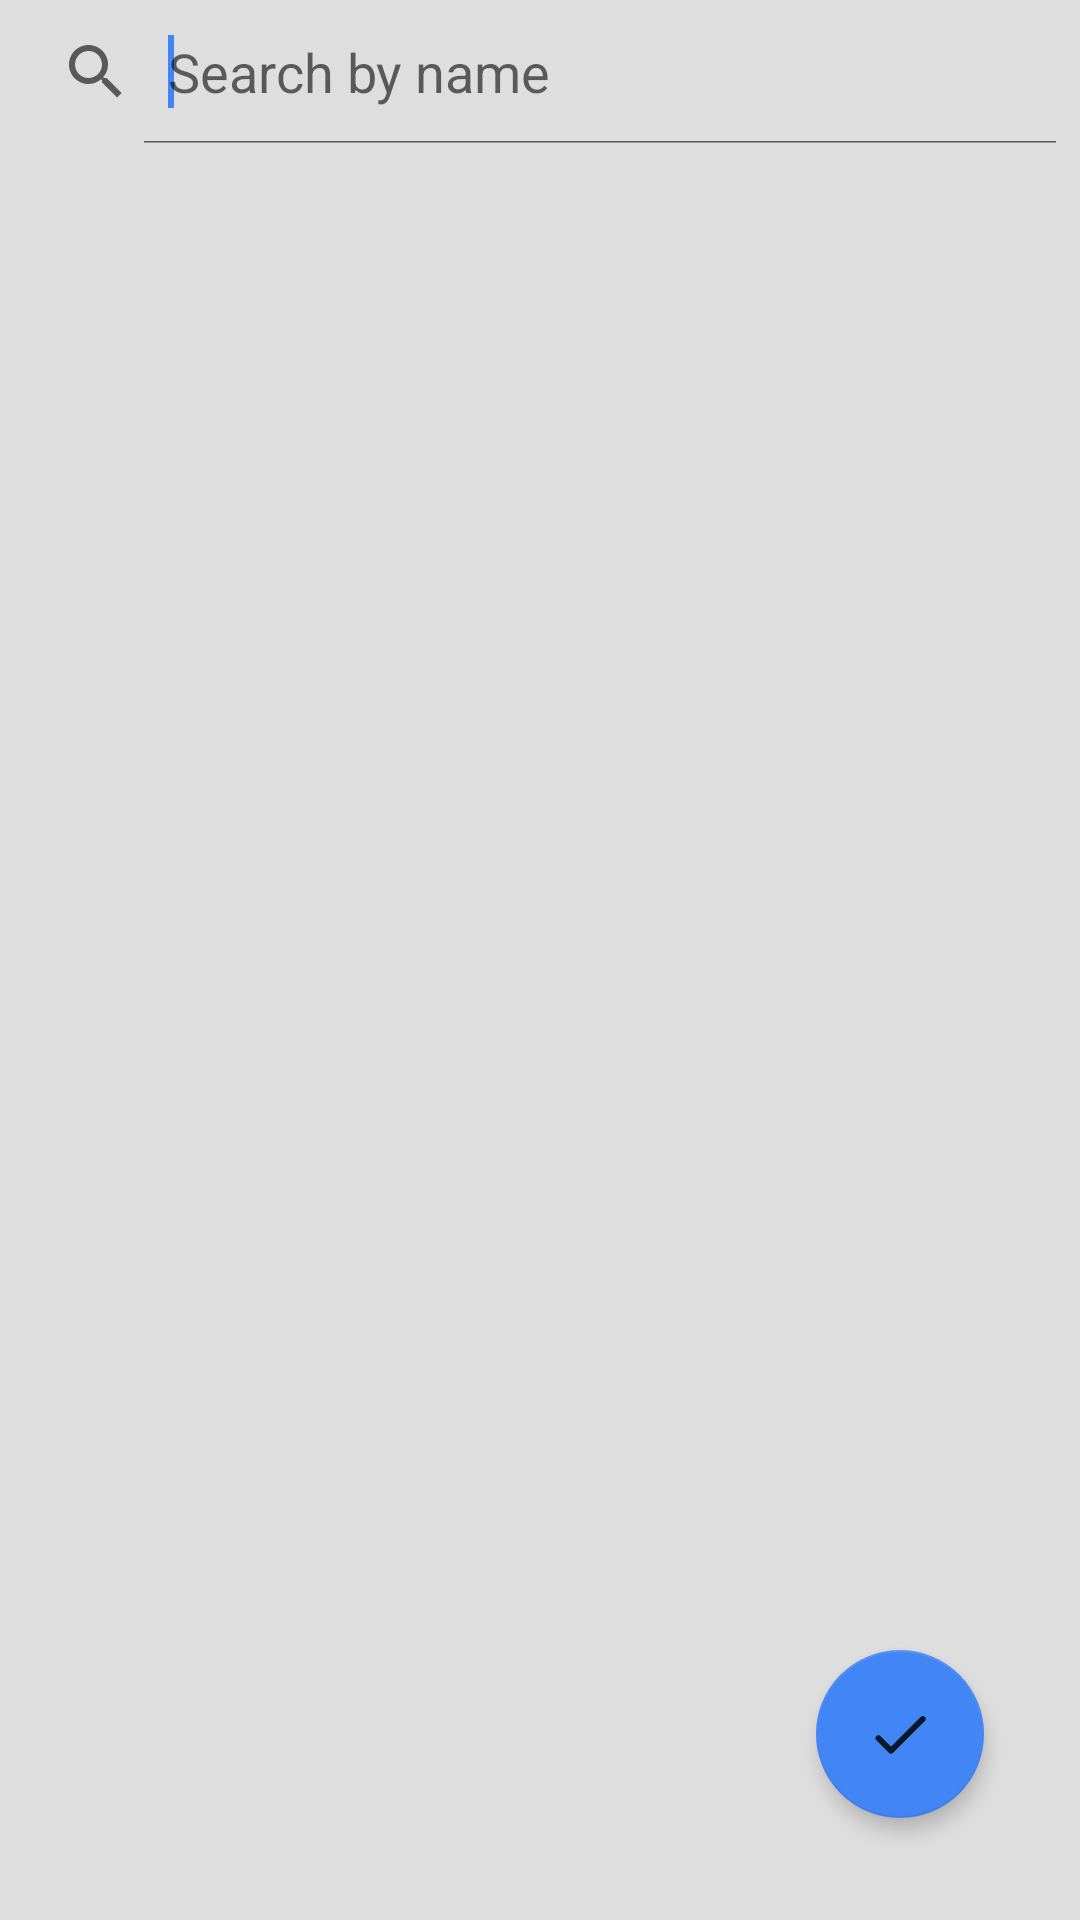

Named icons in this screenshot (1080 x 1920) and their bounding boxes, rect(x1, y1, x2, y2):
done: rect(816, 1650, 984, 1818)
